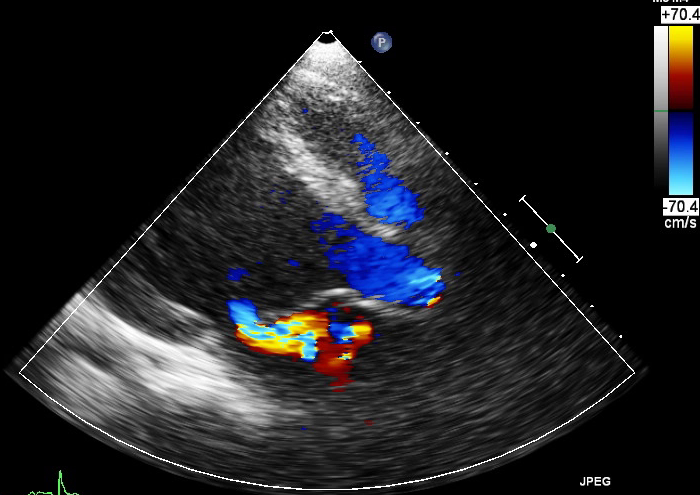MR: (227, 299, 303, 340)
